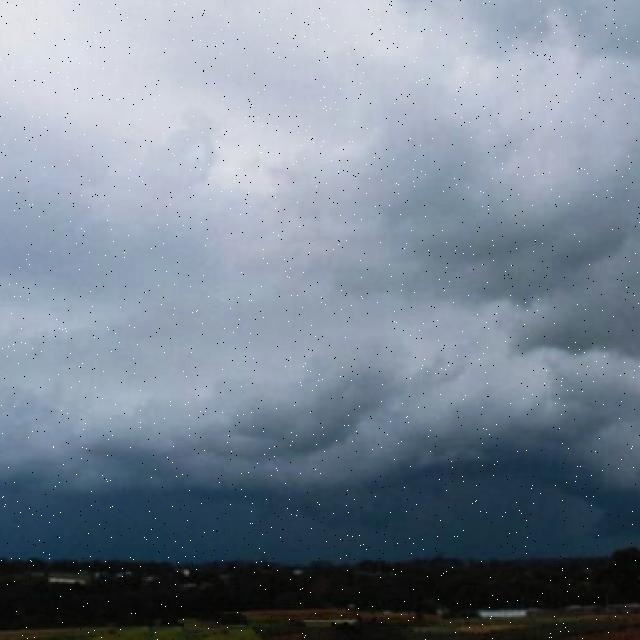Sc: (1, 41, 640, 522)
